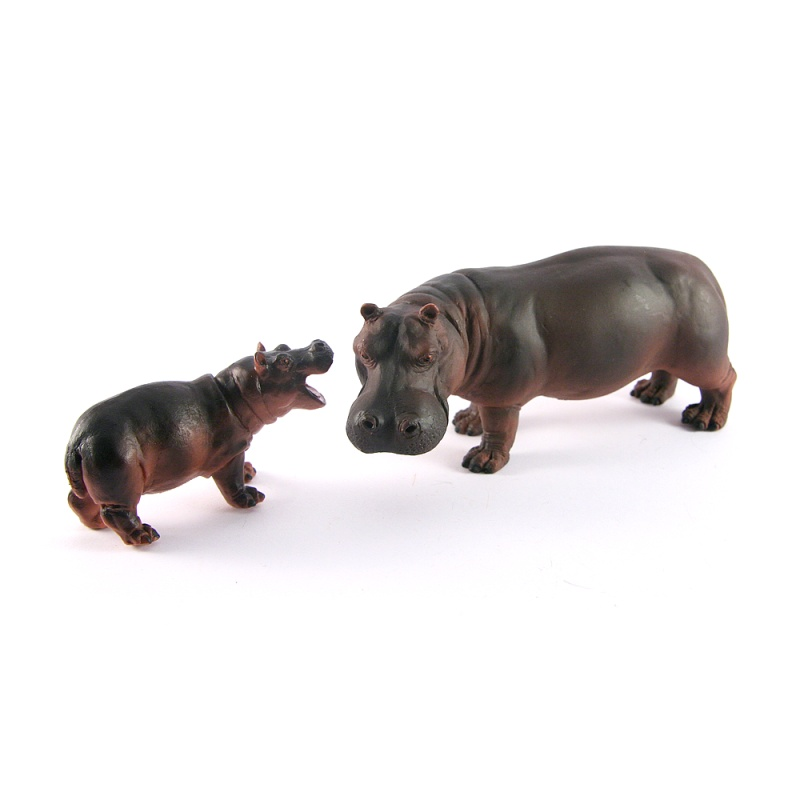hipopotamo: (345, 239, 750, 475), (59, 336, 332, 546)
